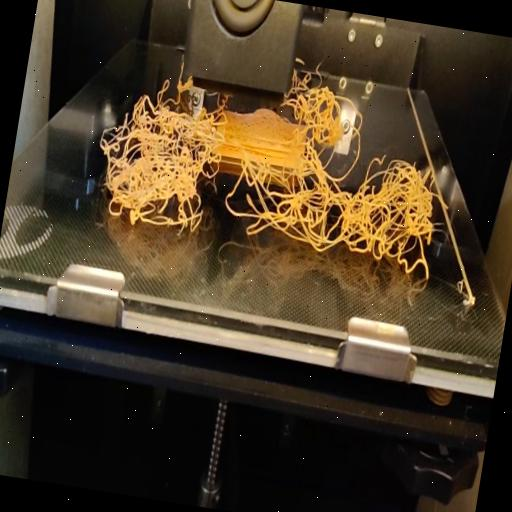spaghetti: (84, 76, 458, 286), (286, 57, 370, 118)
